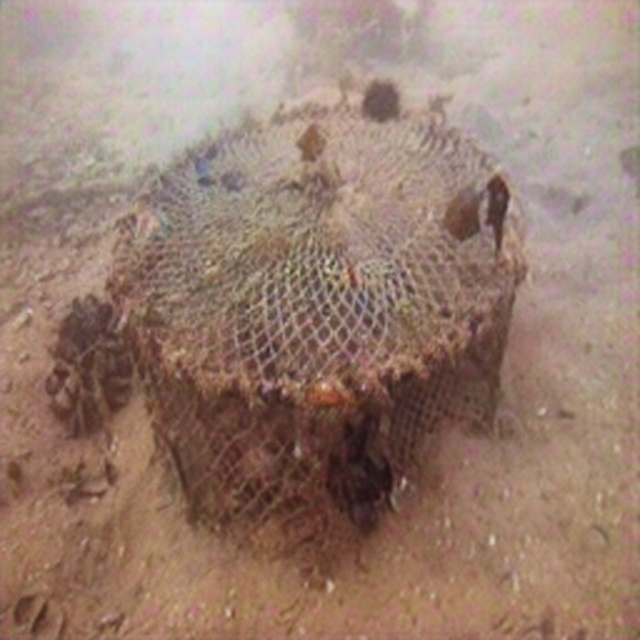mine: (113, 101, 523, 582)
